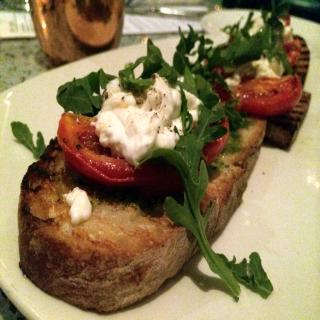tomato: (55, 112, 228, 186), (233, 70, 304, 116)
